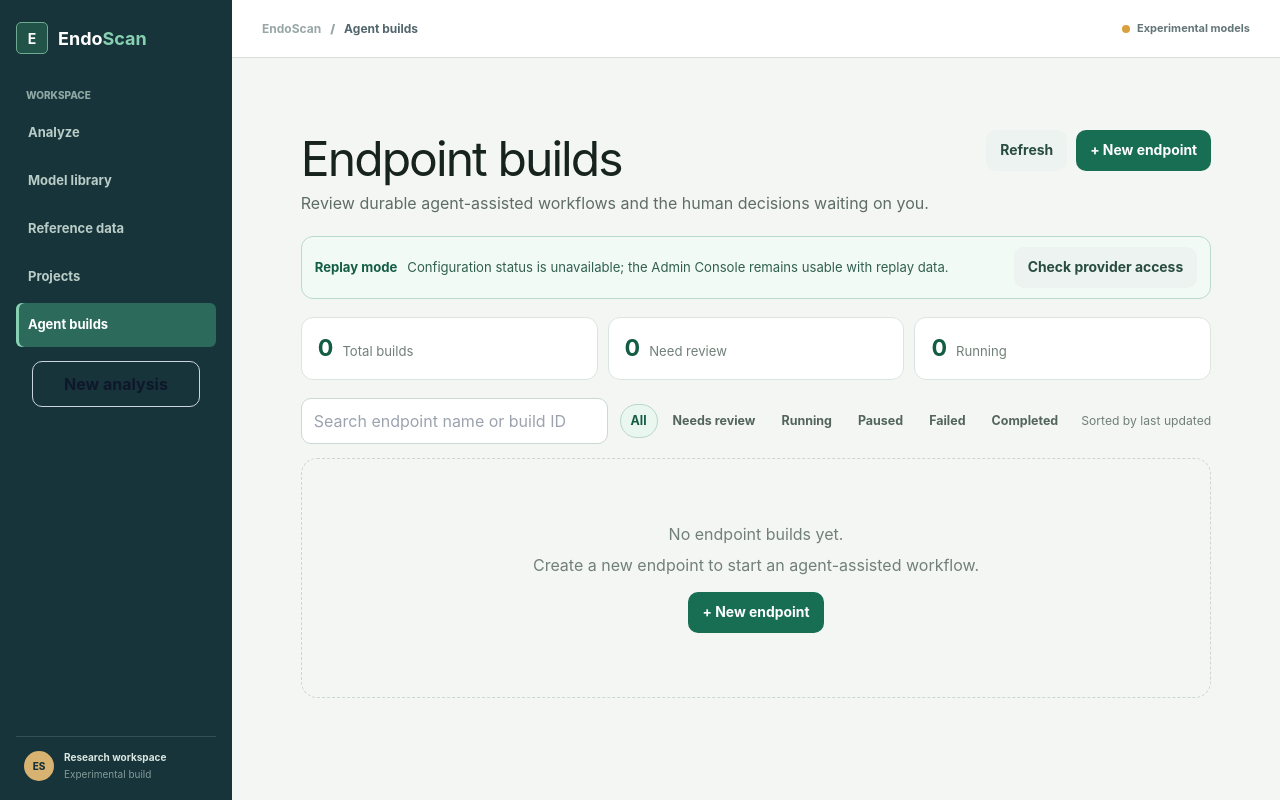
Test: bounded-discovery live discovery presentation › renders safe preflight failure categories without raw provider text
Click the button "Check provider access" at [1105, 268], box [1014,247,1197,288]
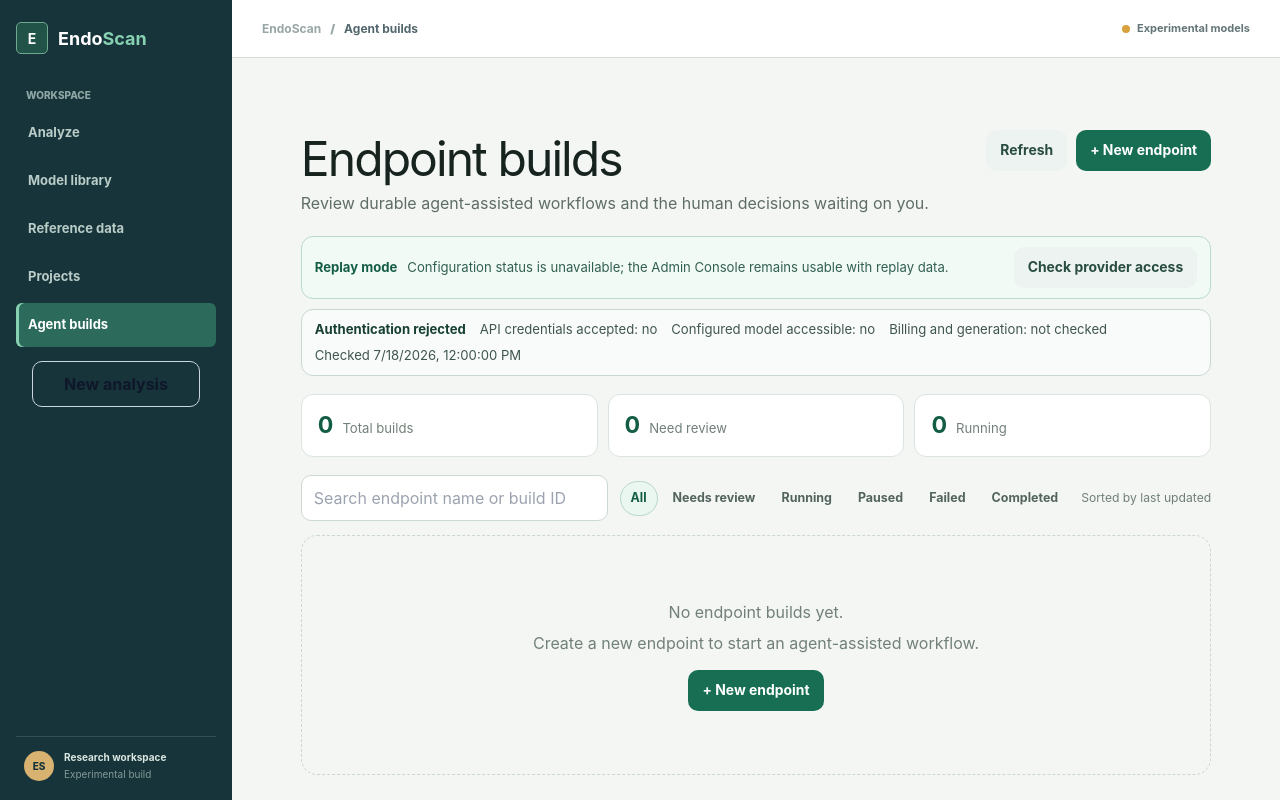
Expected: the text "Authentication rejected" is shown, [315,320,466,340]
